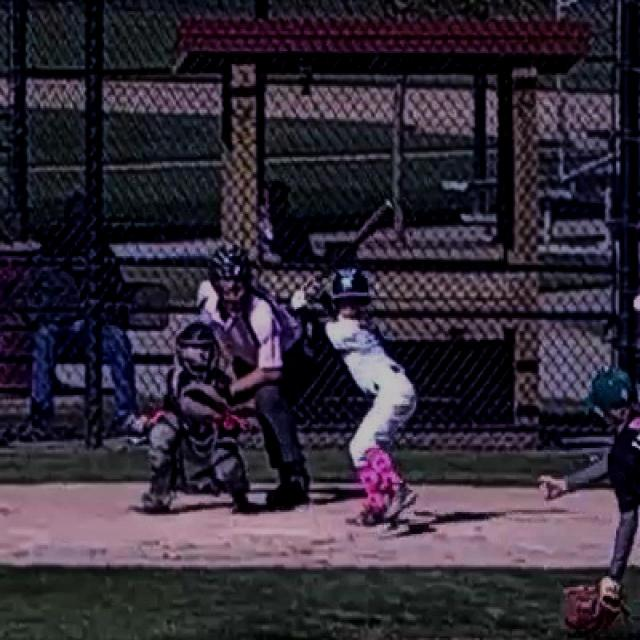baseball: (632, 293, 638, 313)
